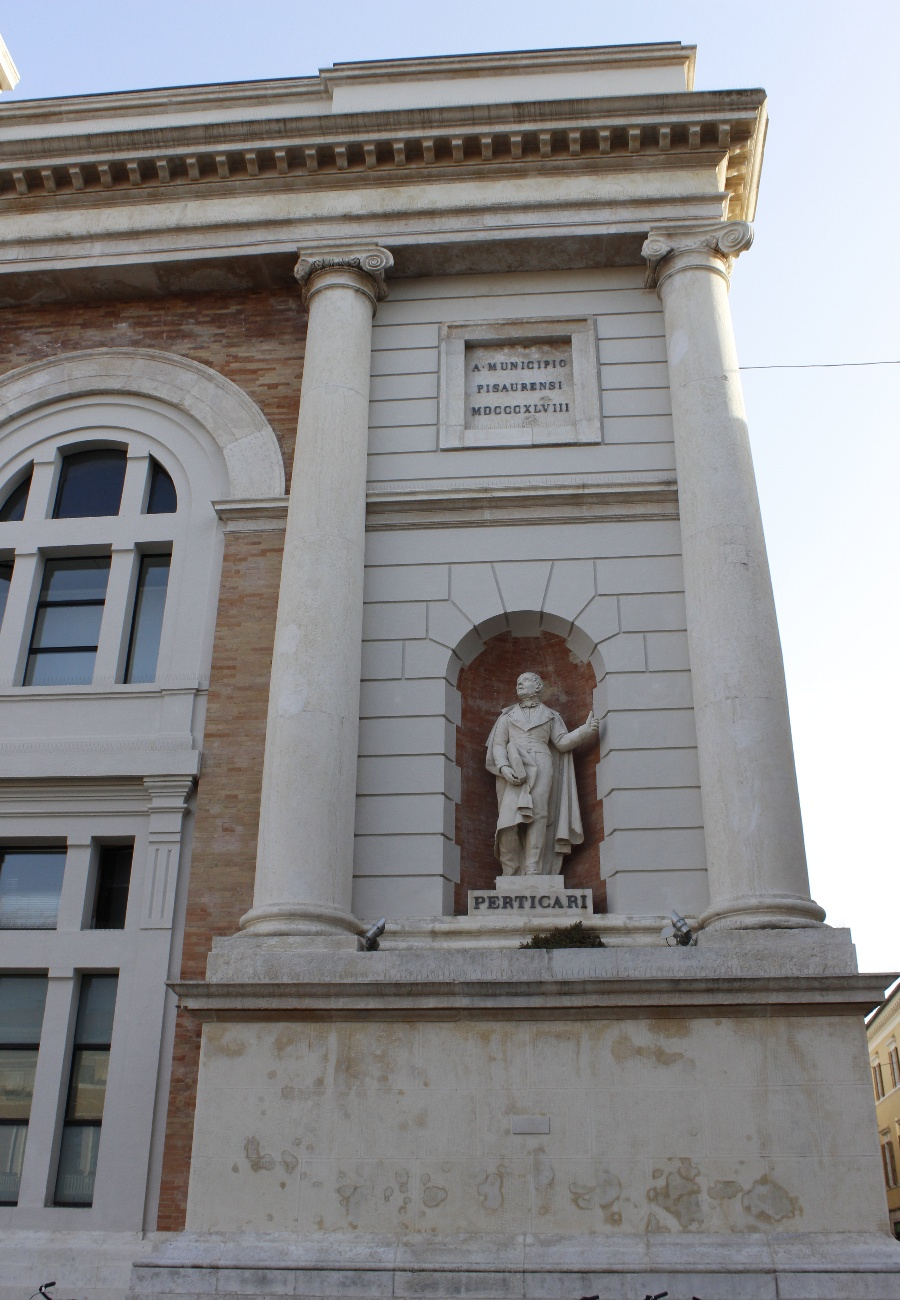Giulio Perticari: (435, 609, 625, 930)
Palazzo delle Poste: (1, 40, 892, 1298)
